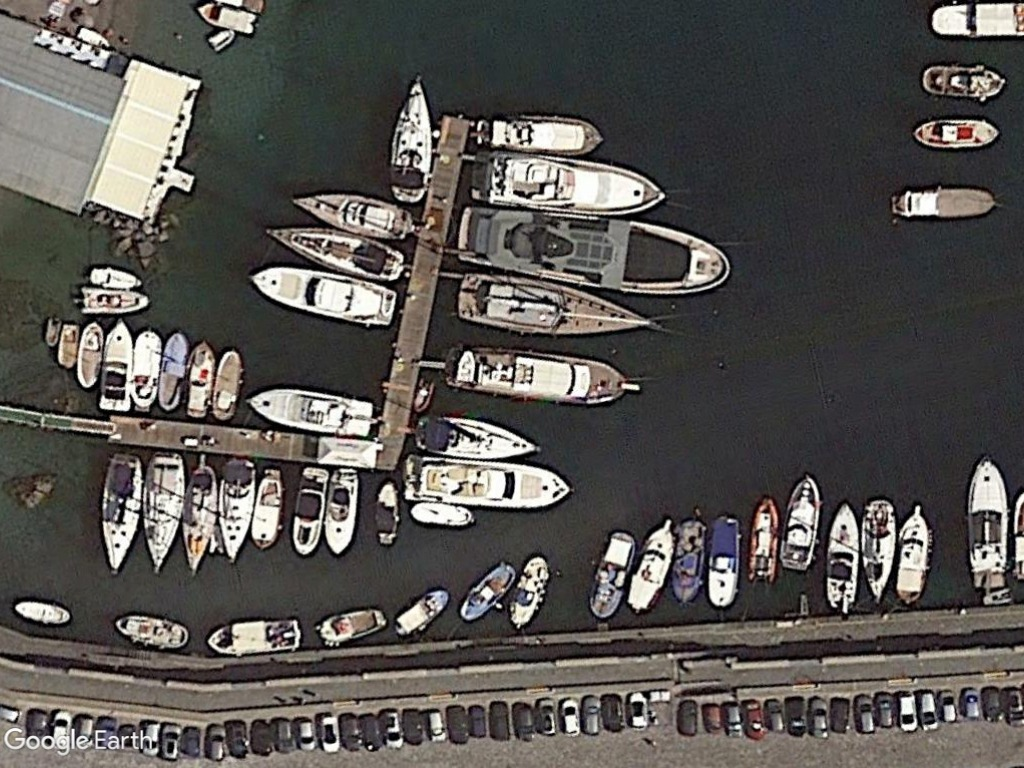boat: (442, 340, 638, 409), (246, 263, 403, 335), (401, 449, 573, 512), (261, 218, 408, 285), (247, 379, 377, 443), (288, 183, 414, 246), (384, 71, 436, 206), (472, 109, 606, 159), (964, 449, 1010, 594), (140, 446, 188, 579), (414, 412, 541, 461), (98, 446, 142, 577), (627, 509, 677, 617), (214, 454, 260, 568), (820, 495, 863, 609), (587, 527, 638, 623), (854, 493, 897, 605), (778, 465, 822, 573), (893, 499, 936, 606), (204, 614, 304, 658), (181, 457, 217, 579), (702, 508, 744, 612), (888, 183, 999, 222), (286, 460, 330, 558), (453, 557, 517, 623), (915, 62, 1009, 105), (109, 608, 195, 655), (94, 314, 135, 412), (507, 551, 555, 630), (927, 0, 1024, 39), (742, 491, 781, 587), (907, 116, 1005, 152), (673, 511, 707, 609), (324, 466, 360, 557), (130, 325, 167, 412), (390, 584, 449, 638), (254, 466, 289, 554), (317, 602, 384, 647), (72, 313, 108, 391), (159, 328, 190, 418), (75, 284, 154, 319), (210, 346, 246, 421), (190, 0, 261, 37), (406, 499, 479, 531), (7, 596, 73, 630), (187, 336, 213, 422), (85, 260, 147, 294), (375, 475, 403, 550)
car: (513, 699, 542, 746), (851, 690, 878, 739), (740, 698, 770, 741), (555, 693, 583, 739), (377, 706, 405, 752), (578, 690, 604, 739), (535, 694, 563, 739), (598, 692, 627, 735), (315, 711, 341, 758), (805, 695, 832, 740), (625, 688, 653, 731), (271, 712, 297, 758), (675, 695, 702, 739), (916, 688, 941, 734), (895, 688, 919, 735), (159, 721, 185, 763), (872, 690, 899, 730), (205, 721, 229, 766), (979, 683, 1004, 726), (958, 683, 984, 724), (763, 696, 788, 736), (1002, 684, 1024, 729), (936, 687, 960, 728), (722, 696, 744, 740), (425, 706, 448, 746), (296, 715, 319, 754), (703, 700, 726, 737)
other: (485, 694, 513, 743), (248, 717, 277, 761), (399, 704, 428, 747), (442, 704, 471, 746), (783, 695, 809, 741), (358, 710, 384, 753), (337, 710, 362, 753), (224, 717, 249, 760), (467, 699, 490, 743), (828, 695, 852, 737), (180, 721, 204, 762)
